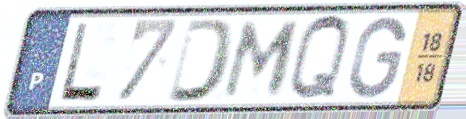7: (116, 17, 181, 106)
D: (164, 16, 239, 104)
G: (345, 14, 409, 101)
L: (55, 20, 106, 104)
M: (219, 19, 305, 101)
Q: (286, 12, 352, 105)
